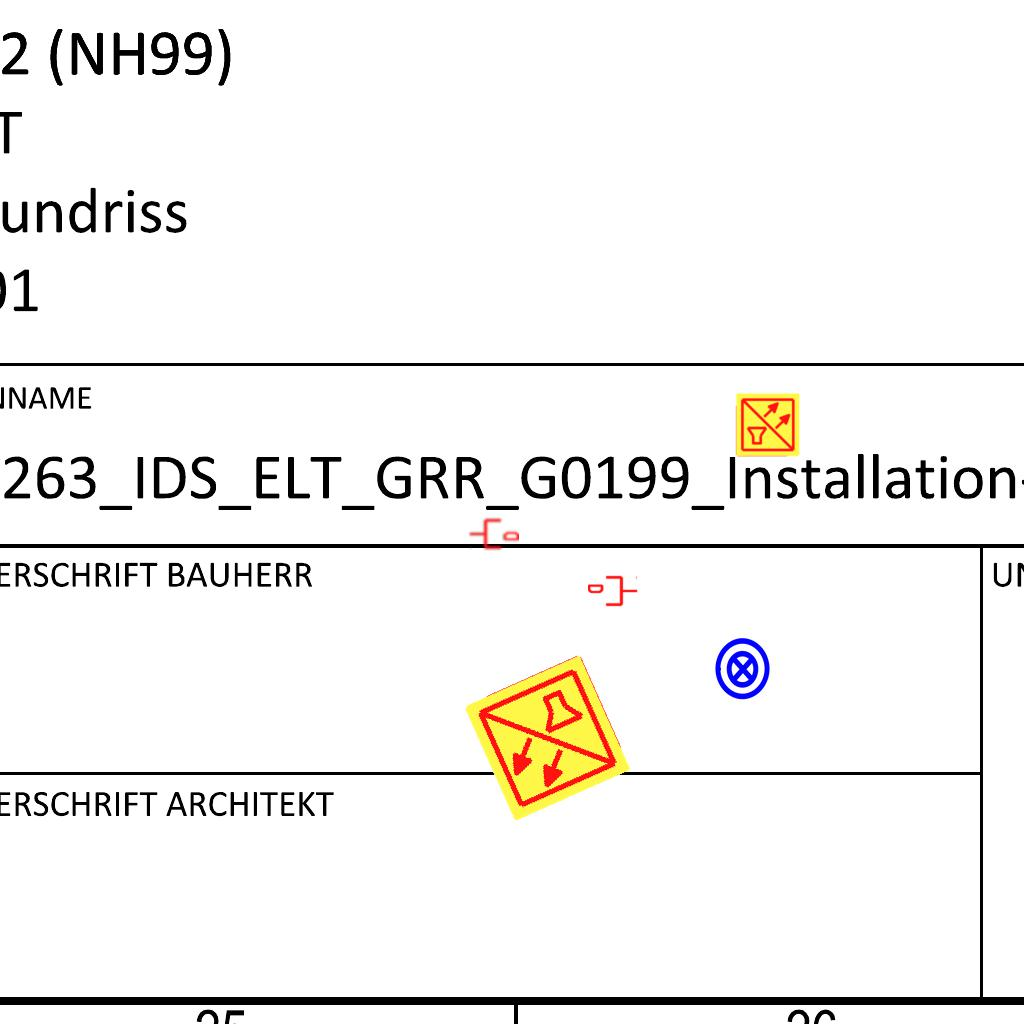Datenanschluss_einfach: (469, 517, 519, 551), (588, 574, 638, 608)
OKW_Multisensormelder_(Kombination_optischer_Rauch-Kahlenmonoxid_Waerme-Melder): (459, 650, 635, 826), (735, 392, 801, 458)
Taster_beleuchtet: (710, 636, 776, 702)
